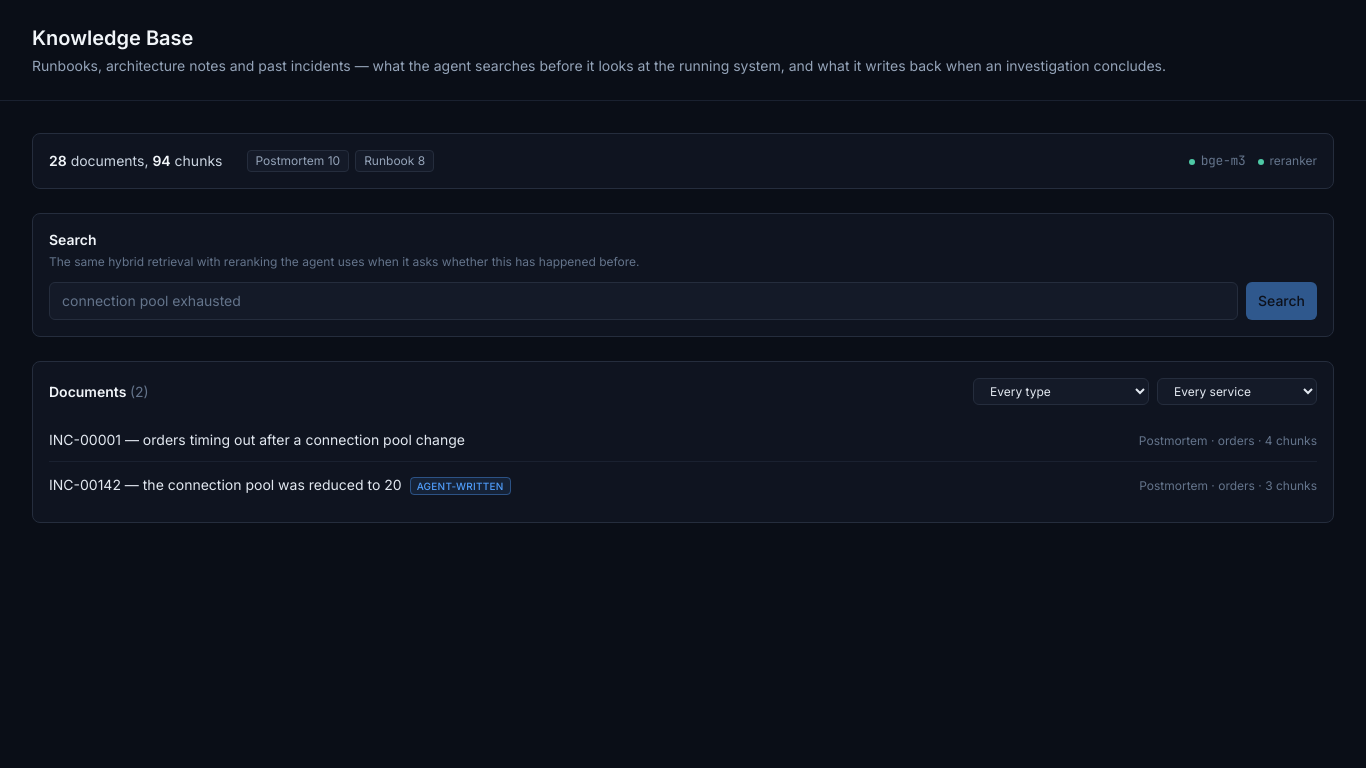
KnowledgePage › opens a document and reads it whole
Click the text "INC-00142 — the connection pool was reduced to 20".
click(225, 484)  # box [49,476,402,493]
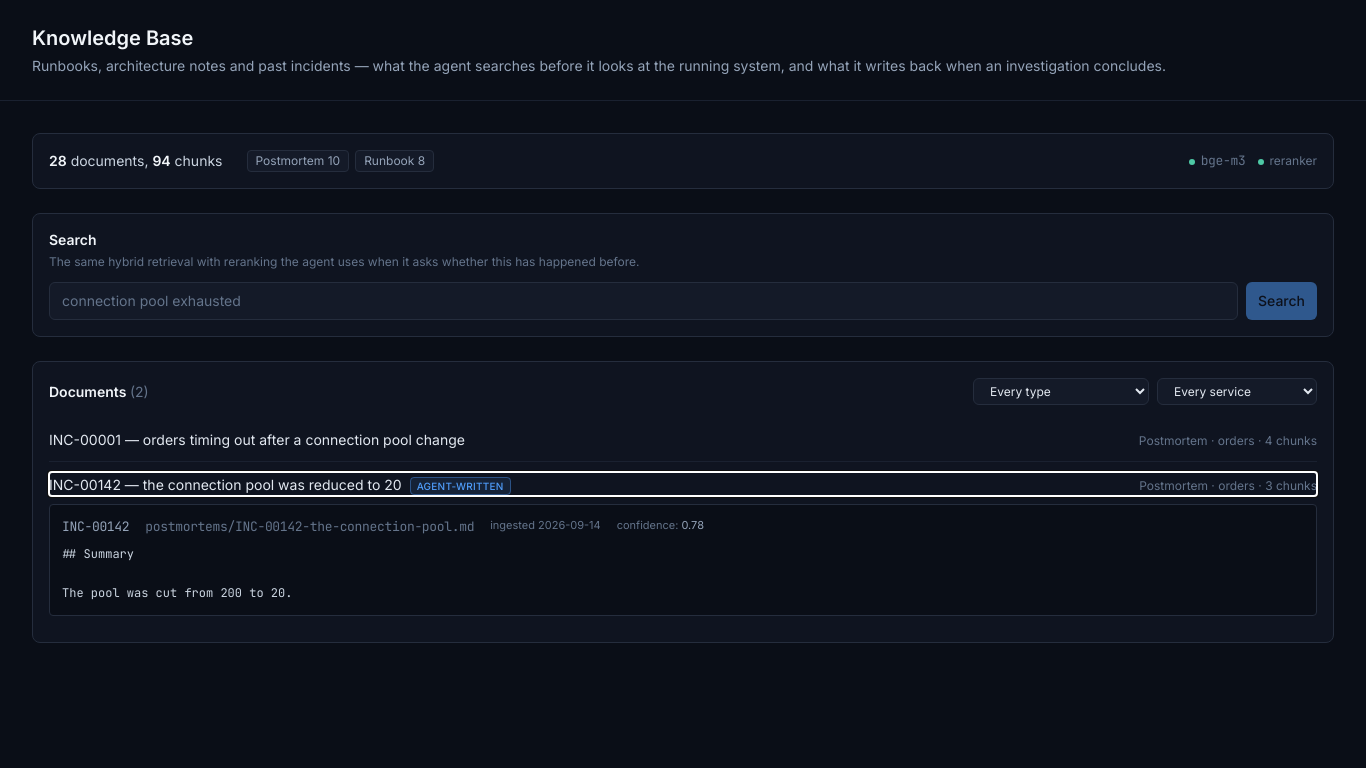
Now the text "## Summary The pool was cut from 200 to 20." is shown, box [62,546,292,600]
Now the text "confidence: 0.78" is shown, box [617,517,704,536]
